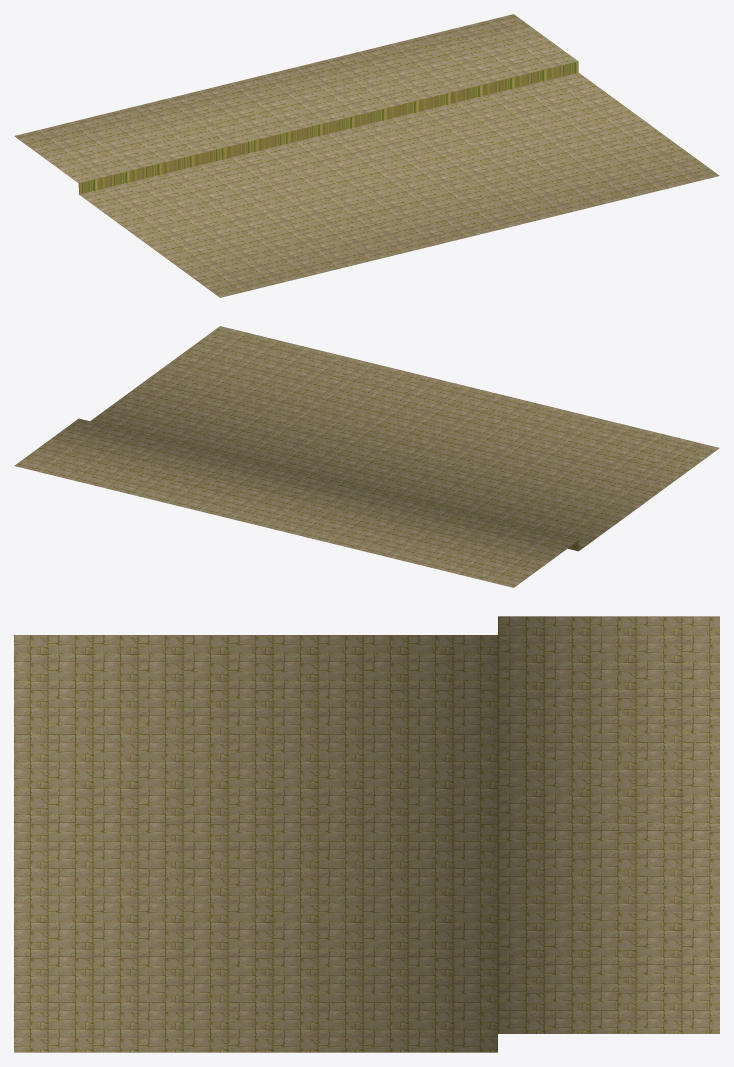
Rendered from Stage_JingJiChang_DiXing.FBX.
3 views of the same model, one above another, from view 1: azimuth 30°, elevation 25°; view 2: azimuth 150°, elevation 25°; view 3: azimuth 270°, elevation 25° (orthographic). The views are drawn at different scales.
Parts seen in each view (by area): view 1: Stage_JingJiChang_DiXing; view 2: Stage_JingJiChang_DiXing; view 3: Stage_JingJiChang_DiXing.
Part boxes in pixels (box(x1,y1,x2,y2)): Stage_JingJiChang_DiXing: box(14, 14, 719, 297); Stage_JingJiChang_DiXing: box(14, 326, 719, 587); Stage_JingJiChang_DiXing: box(14, 616, 719, 1052).
Size of the model in its own units: 7000 by 147 by 5000.
